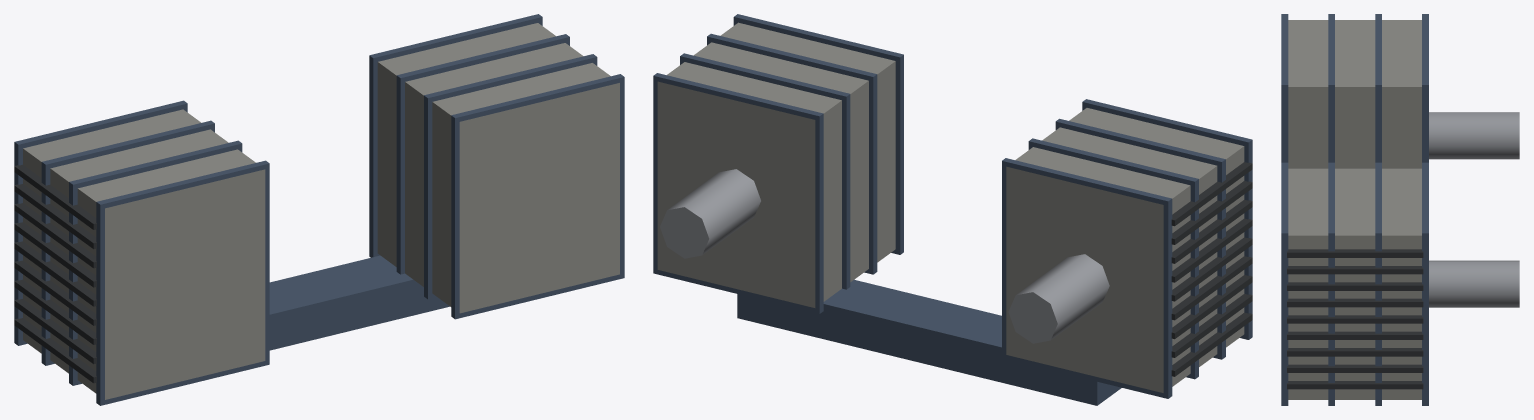
File: kc1000_cooler.obj
The picture shows the model from 3 angles, left to right: view 1: azimuth 30°, elevation 25°; view 2: azimuth 150°, elevation 25°; view 3: azimuth 270°, elevation 25°; orthographic projection. The views are drawn at different scales.
Visible parts, largest first — view 1: kc1000_cooler; view 2: kc1000_cooler; view 3: kc1000_cooler.
Boxes of the visible parts, x1,y1,x2,y2 form: kc1000_cooler: (14,14,624,405); kc1000_cooler: (653,14,1252,405); kc1000_cooler: (1281,14,1519,405).
Size of the model in its own units: 4.64 by 1.94 by 2.1.
